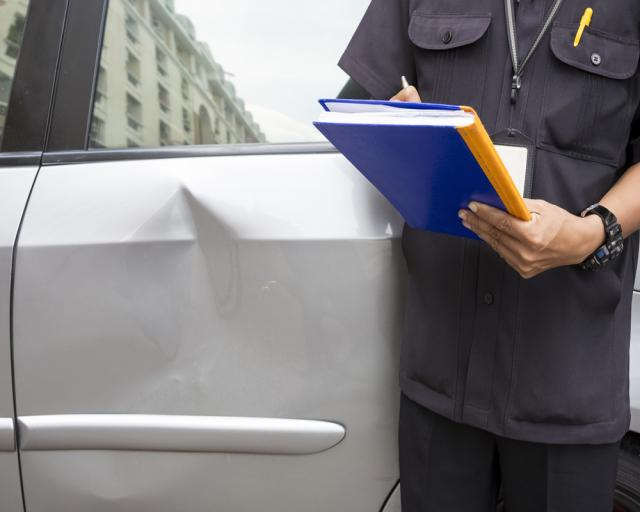dent: (126, 184, 243, 383)
